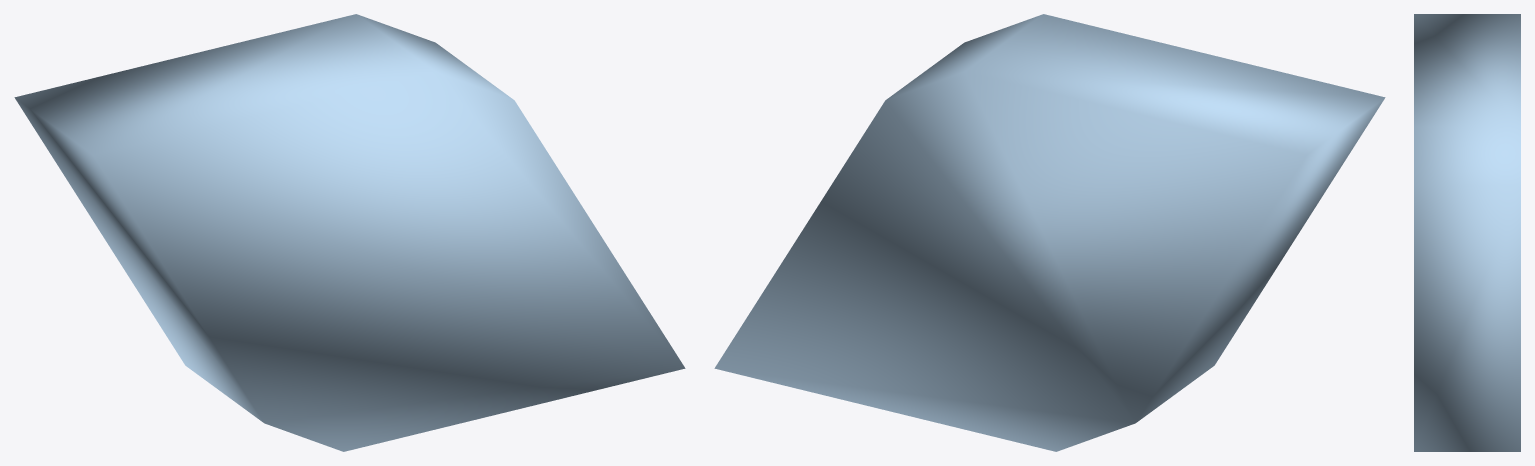
Rendered from corundum-barrel.glb.
The picture shows the model from 3 angles, left to right: view 1: azimuth 30°, elevation 25°; view 2: azimuth 150°, elevation 25°; view 3: azimuth 270°, elevation 25°; orthographic projection. The views are drawn at different scales.
Visible parts, largest first — view 1: corundum-barrel; view 2: corundum-barrel; view 3: corundum-barrel.
Part boxes in pixels (x1,y1,x2,y2): corundum-barrel: (14,14,685,451); corundum-barrel: (714,14,1385,451); corundum-barrel: (1414,14,1520,451).
Size of the model in its own units: 2.08 by 1.2 by 0.48.
